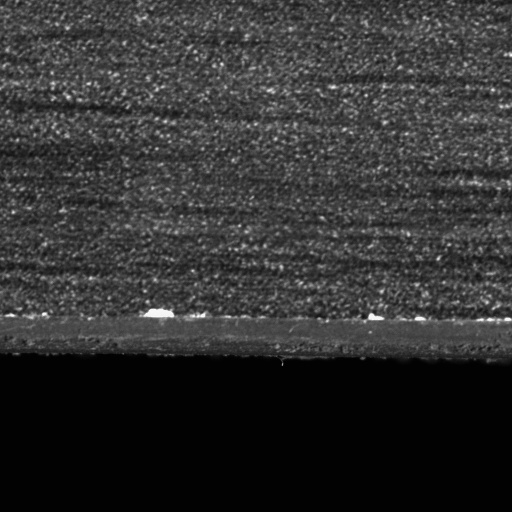huashang: (142, 307, 177, 320)
